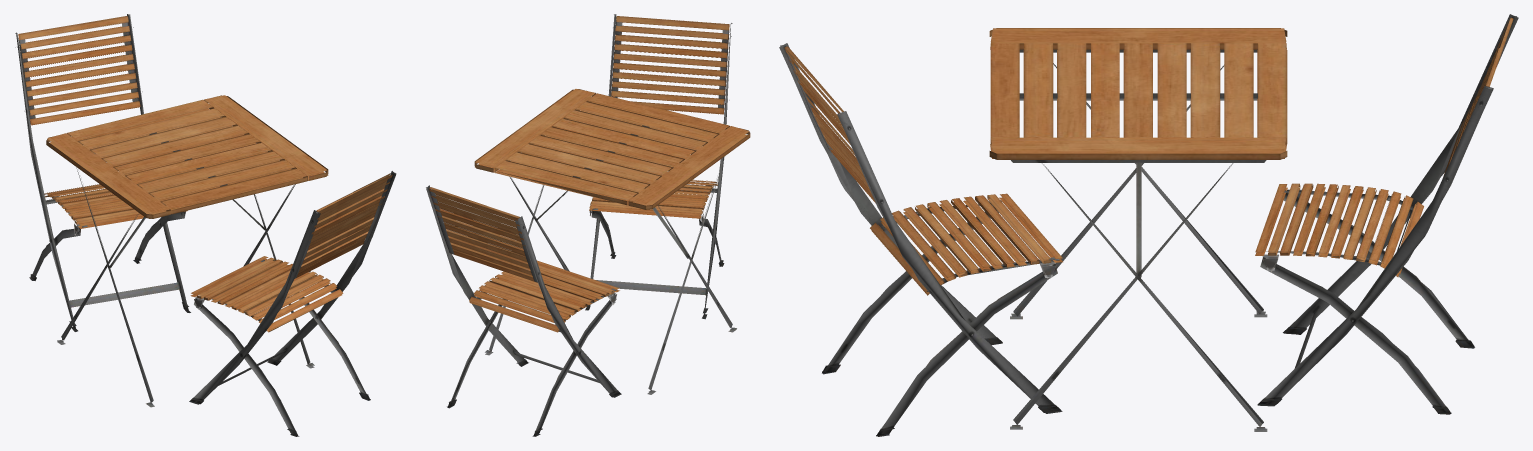
Rendered from outdoor_table_chair_set_01_1k.gltf.lod.glb.
3 renders of one model, left to right at view 1: azimuth 30°, elevation 25°; view 2: azimuth 150°, elevation 25°; view 3: azimuth 270°, elevation 25°, orthographic. The views are drawn at different scales.
Parts seen in each view (by area): view 1: outdoor_table_chair_set_01_table, outdoor_table_chair_set_01_chair_01, outdoor_table_chair_set_01_chair_02; view 2: outdoor_table_chair_set_01_table, outdoor_table_chair_set_01_chair_02, outdoor_table_chair_set_01_chair_01; view 3: outdoor_table_chair_set_01_table, outdoor_table_chair_set_01_chair_01, outdoor_table_chair_set_01_chair_02.
Boxes of the visible parts, x1,y1,x2,y2 form: outdoor_table_chair_set_01_table: [46, 95, 328, 407]; outdoor_table_chair_set_01_chair_01: [189, 171, 396, 436]; outdoor_table_chair_set_01_chair_02: [15, 14, 190, 331]; outdoor_table_chair_set_01_table: [474, 89, 750, 394]; outdoor_table_chair_set_01_chair_02: [426, 185, 621, 436]; outdoor_table_chair_set_01_chair_01: [585, 14, 732, 319]; outdoor_table_chair_set_01_table: [989, 28, 1287, 431]; outdoor_table_chair_set_01_chair_01: [779, 43, 1062, 436]; outdoor_table_chair_set_01_chair_02: [1255, 14, 1518, 414].
Size of the model in its own units: 0.7413 by 0.8553 by 1.72.
Materials: 2 (2 with a texture image).
